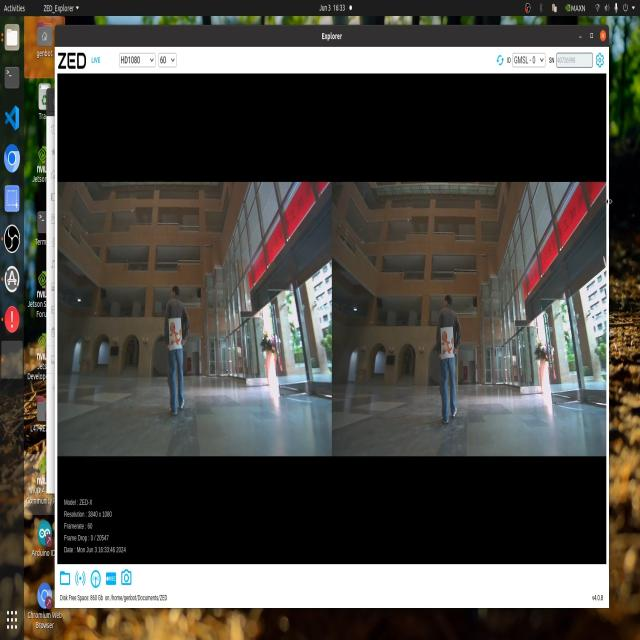red: (168, 318, 187, 353), (440, 334, 458, 358)
